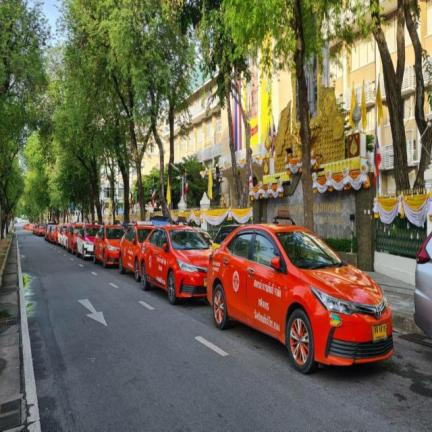taxi: (207, 224, 392, 372), (140, 225, 211, 304), (119, 221, 153, 281), (94, 225, 124, 267), (76, 223, 99, 259)
